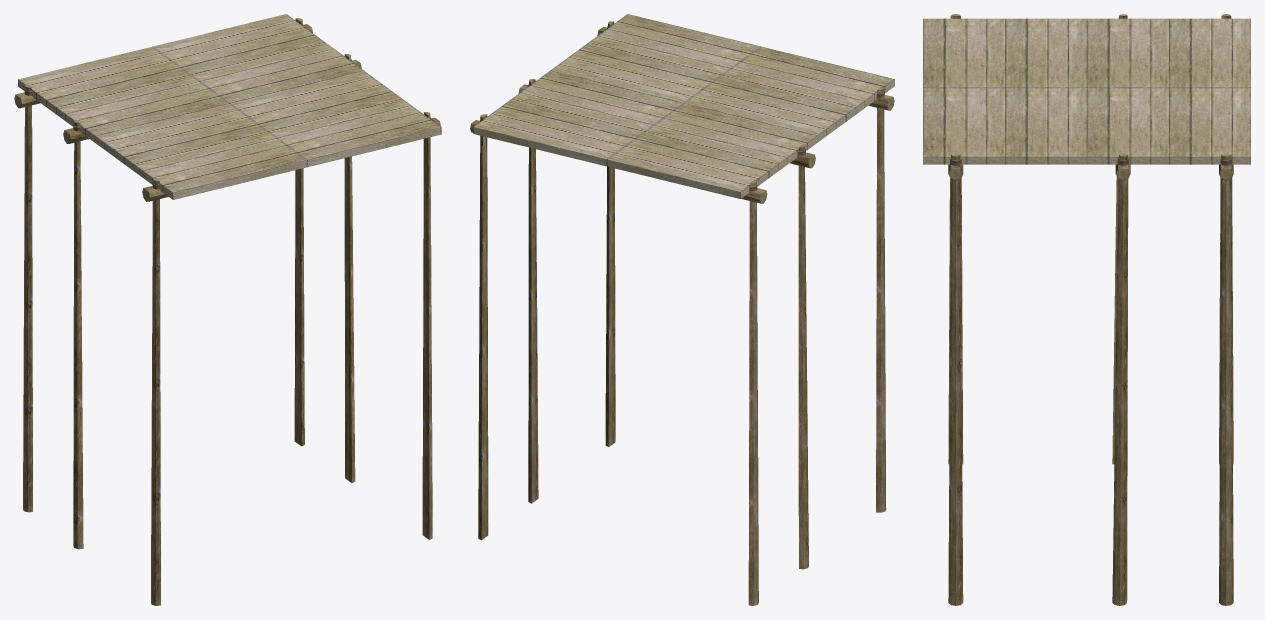
The model's file is thm_endr_lake_platform_square_s01_l0.fbx.
3 renders of one model, left to right at view 1: azimuth 30°, elevation 25°; view 2: azimuth 150°, elevation 25°; view 3: azimuth 270°, elevation 25°, orthographic. The views are drawn at different scales.
Visible parts, largest first — view 1: mesh_node; view 2: mesh_node; view 3: mesh_node.
Boxes of the visible parts, left/top/right/bottom form: mesh_node: left=14, top=14, right=441, bottom=605; mesh_node: left=470, top=14, right=894, bottom=605; mesh_node: left=923, top=14, right=1250, bottom=605.
Bounding box in the file's own units: 8.68 × 12.07 × 8.
